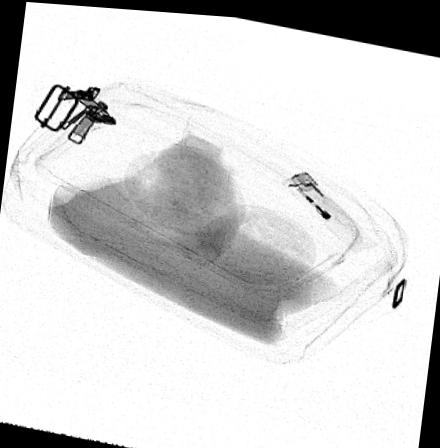Lighter: (280, 166, 378, 248)
